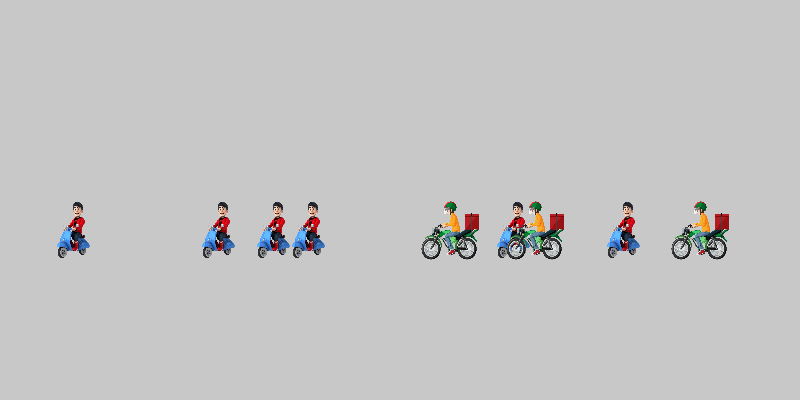helmet: (420, 200, 480, 260), (505, 200, 565, 260), (670, 200, 730, 260)
no_helmet: (45, 200, 105, 260), (190, 200, 250, 260), (245, 200, 305, 260), (280, 200, 340, 260), (485, 200, 545, 260), (595, 200, 655, 260)
